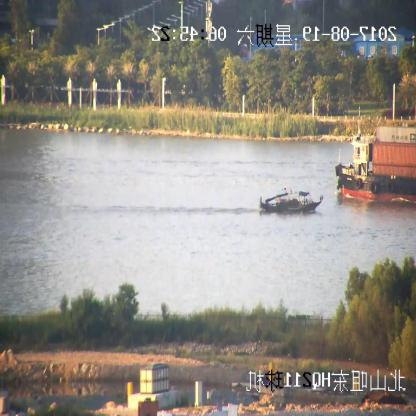Fishing Boat: (258, 189, 323, 216)
